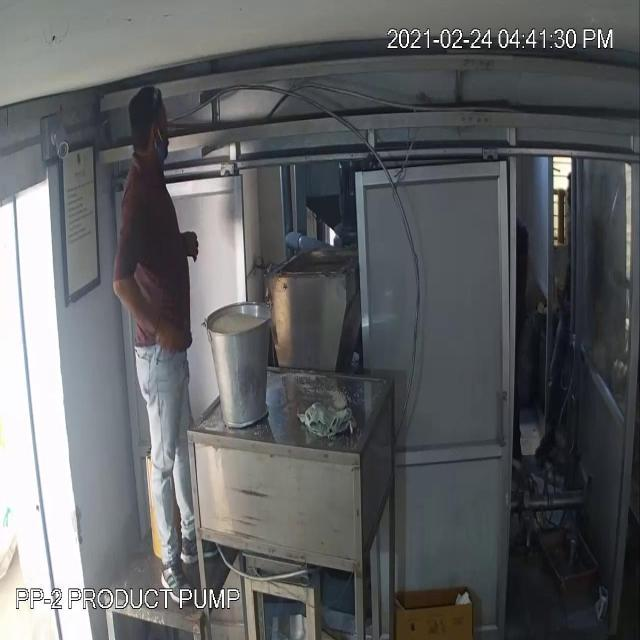no-helmet: (128, 90, 174, 148)
